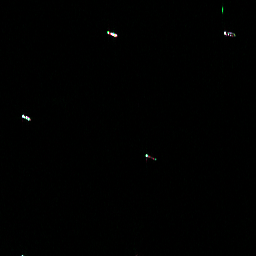ship: (19, 111, 33, 124), (143, 151, 158, 163), (104, 28, 120, 39), (221, 28, 237, 39)
